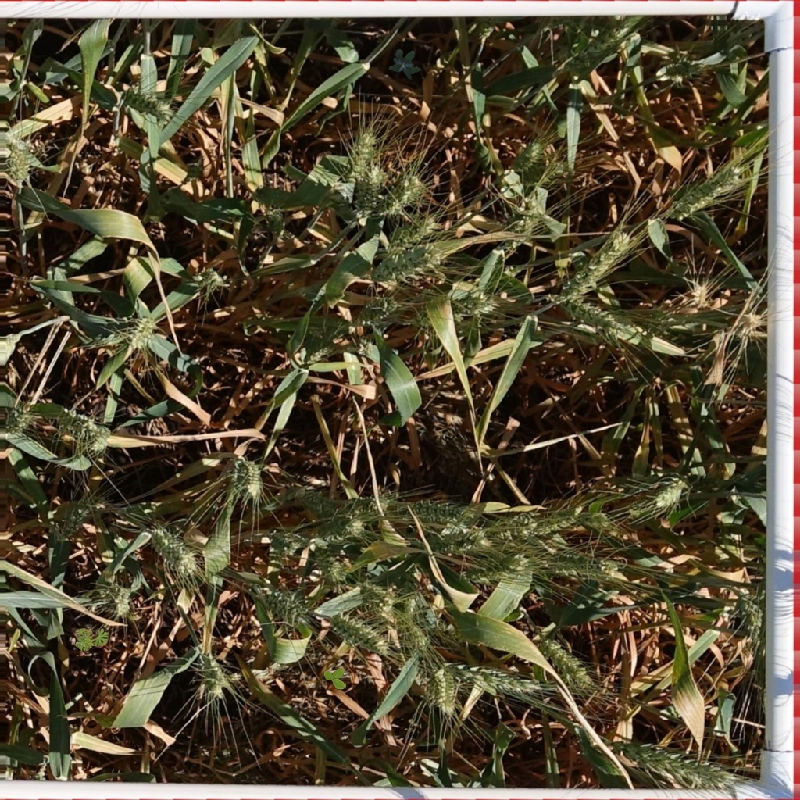spikelet: (618, 739, 741, 792), (554, 228, 634, 300), (663, 158, 752, 222), (562, 295, 648, 344), (497, 184, 552, 258), (561, 20, 632, 76), (453, 659, 544, 700), (537, 635, 596, 693), (371, 241, 445, 283), (326, 609, 388, 655), (147, 522, 199, 576), (514, 501, 588, 538), (546, 548, 624, 583), (54, 404, 112, 451), (460, 548, 532, 585), (47, 493, 97, 544), (117, 83, 176, 124), (256, 582, 312, 624), (707, 13, 760, 56), (385, 214, 440, 253), (343, 126, 380, 183), (430, 521, 491, 555), (426, 661, 462, 717), (1, 133, 40, 184), (225, 453, 266, 501), (380, 171, 424, 215), (351, 162, 386, 217), (192, 647, 229, 699), (310, 513, 364, 548), (390, 608, 432, 653), (732, 585, 768, 637), (409, 496, 473, 525), (289, 483, 341, 517), (452, 284, 499, 321), (509, 136, 547, 179), (650, 471, 690, 511), (356, 293, 400, 327), (654, 52, 700, 84), (264, 526, 304, 562), (310, 547, 349, 583), (123, 313, 158, 350), (104, 585, 142, 618), (1, 401, 33, 439), (190, 264, 228, 295), (687, 277, 717, 311), (735, 308, 766, 335)
weed: (383, 47, 425, 87), (73, 623, 112, 653), (322, 660, 355, 694)
